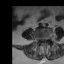CCS_normal: (43, 37, 45, 45)
LFS_stenosis: (47, 36, 49, 41)
LLS_normal: (45, 37, 47, 43)
RFS_normal: (39, 36, 42, 42)
RLS_normal: (42, 36, 43, 43)
